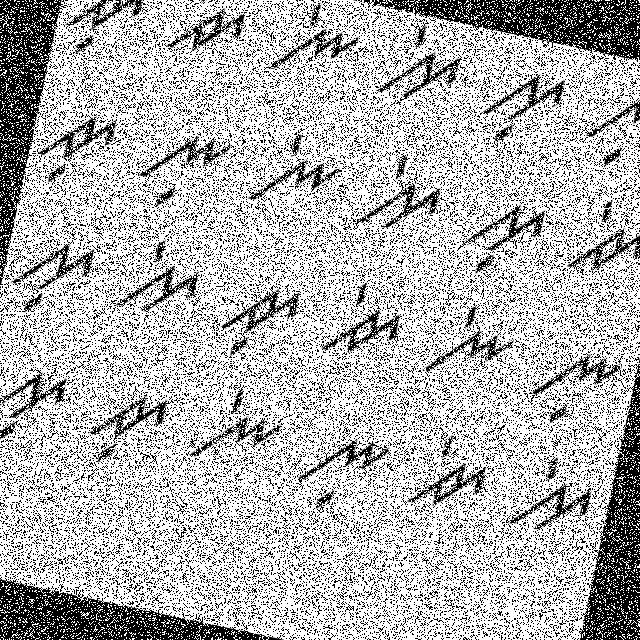je: (313, 269, 414, 376), (405, 418, 498, 527), (565, 186, 639, 288), (161, 0, 261, 68)
ju: (78, 378, 178, 476), (28, 96, 124, 197), (214, 266, 308, 368), (56, 0, 149, 69)
nye: (241, 117, 350, 225), (180, 376, 288, 479), (261, 0, 371, 101), (420, 288, 525, 391)
nyu: (516, 328, 630, 441), (125, 111, 234, 222), (292, 418, 396, 526), (576, 74, 639, 184)
se: (500, 440, 600, 544), (108, 228, 208, 330), (352, 144, 452, 245), (373, 15, 472, 114)
su: (448, 180, 556, 286), (474, 56, 574, 156), (6, 226, 102, 326), (0, 352, 76, 455)
